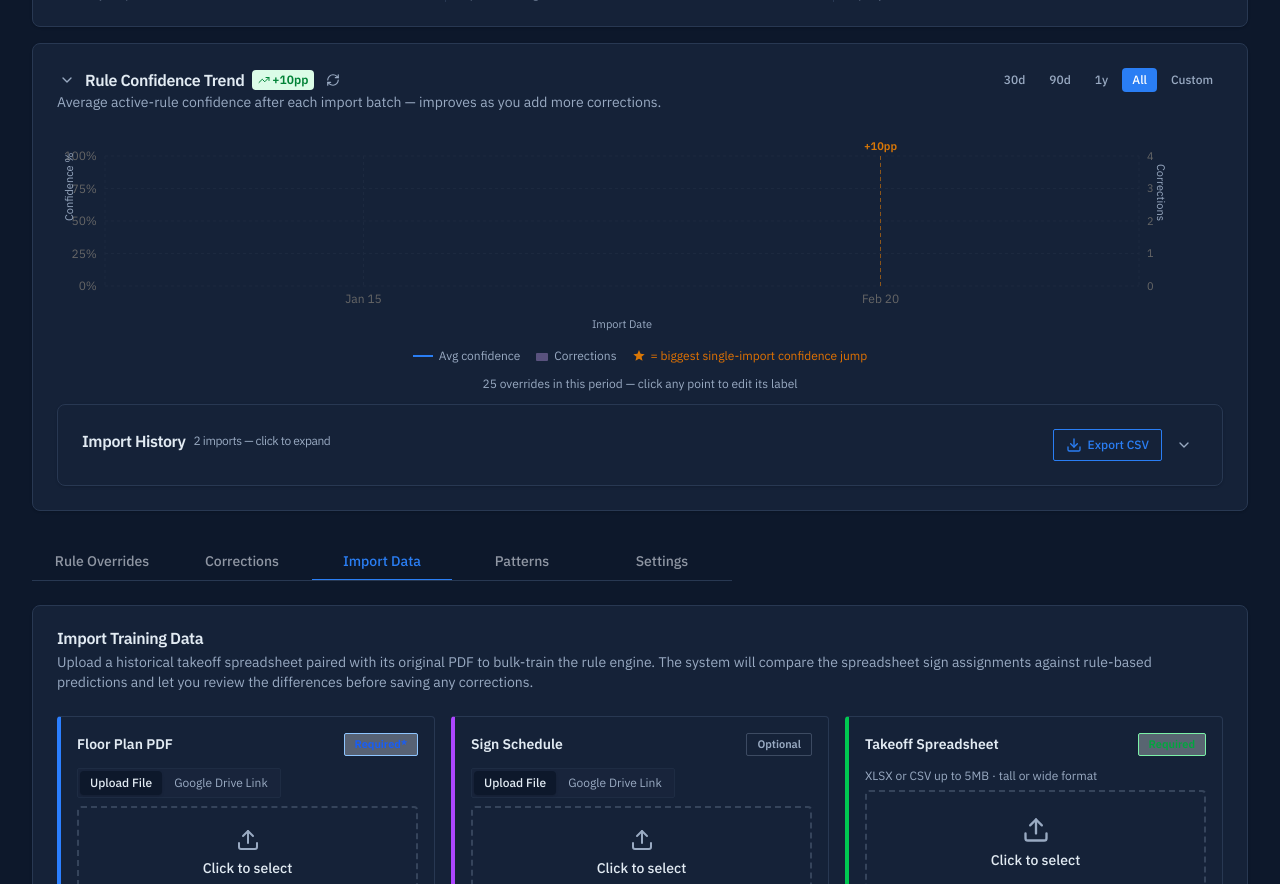
Test: ImportHistoryTable — CSV export › filtering reflected in export › hides the Export CSV button when filters exclude all rows
(page scrolled)
Click the text "Import History" at [206, 441], box [82, 429, 330, 453]
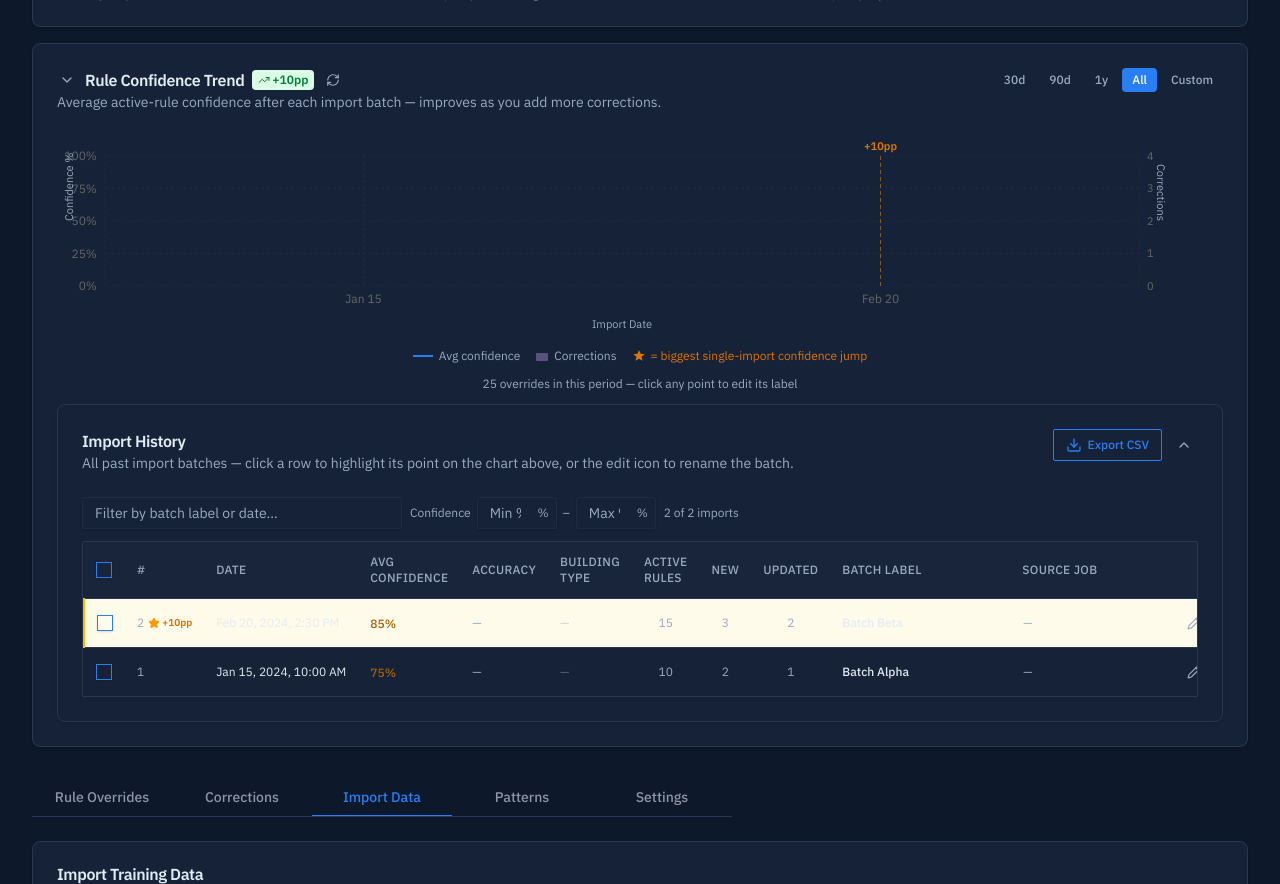
Type "zzz-no-match-zzz" into the field with placeholder "Filter by batch label or date…" at [242, 513], box [82, 497, 402, 529]
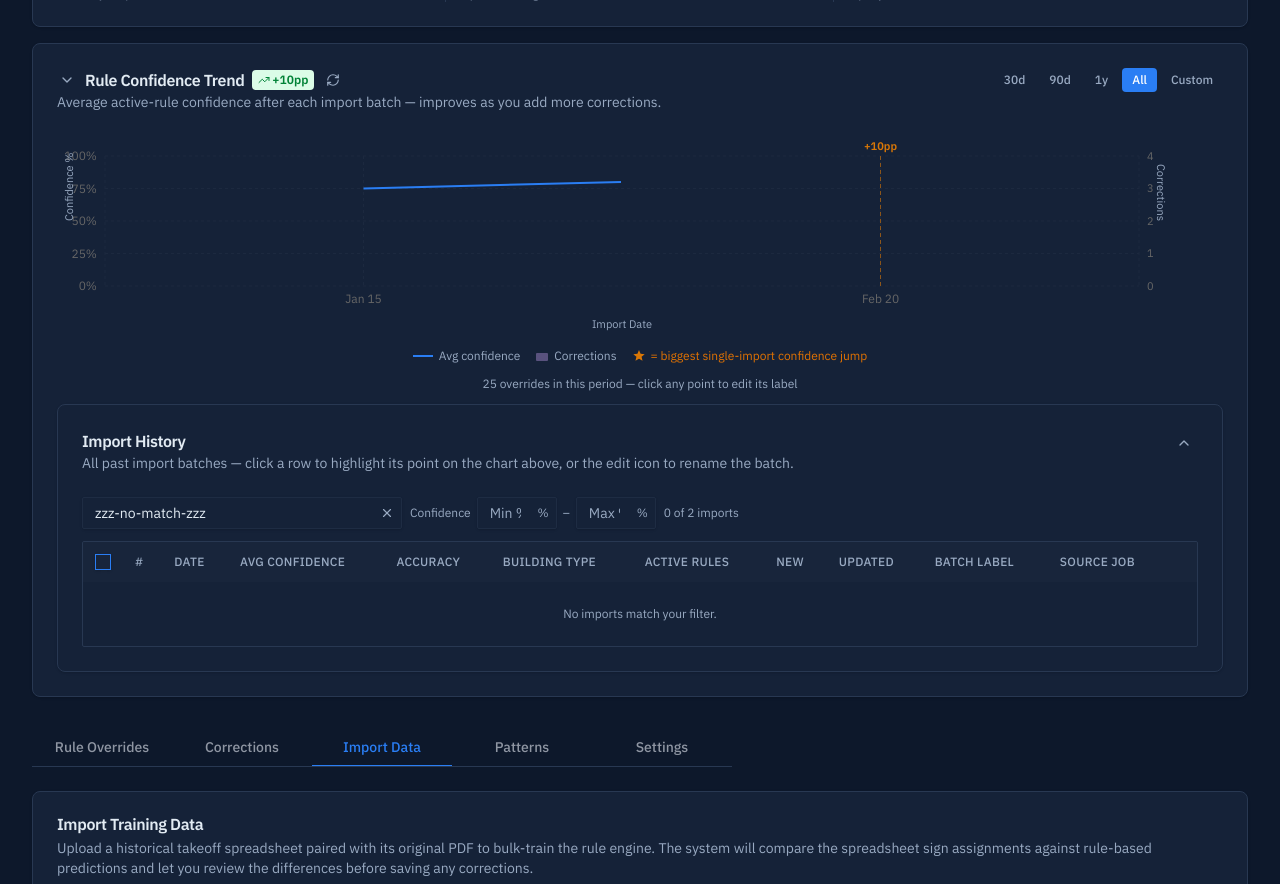
Result: the button "Export CSV" is gone
